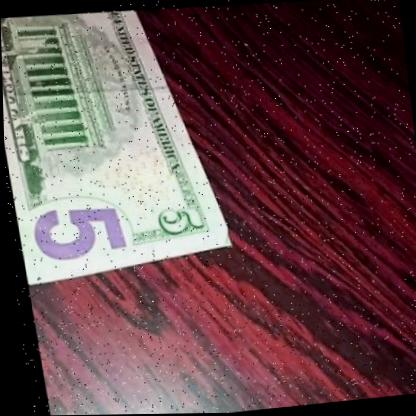five-back: (0, 0, 233, 294)
